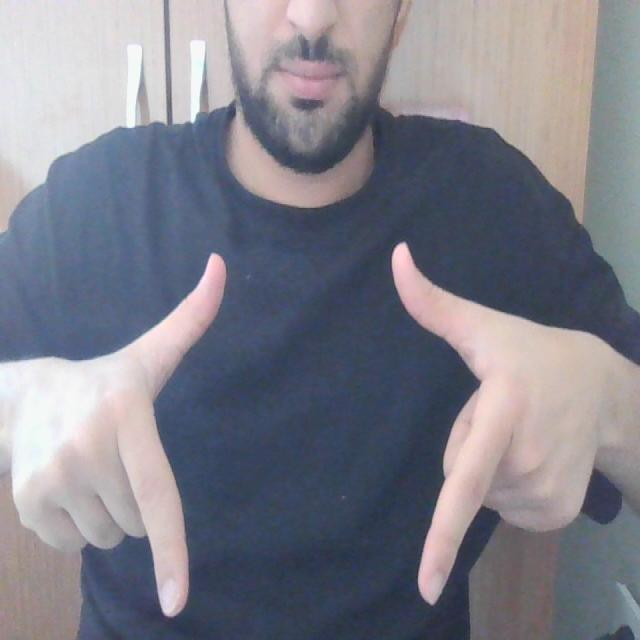Nerede: (104, 230, 536, 620)
